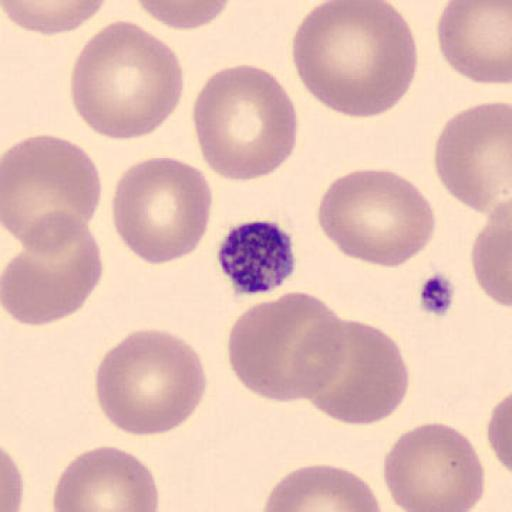Platelet: (216, 217, 299, 298)
RBC: (290, 0, 419, 121), (69, 19, 186, 142), (226, 290, 347, 404), (192, 62, 300, 182), (94, 326, 209, 437), (316, 167, 438, 269), (300, 317, 411, 426), (1, 210, 104, 326), (110, 154, 214, 268), (1, 132, 104, 240), (383, 420, 485, 512), (434, 100, 512, 214), (51, 443, 161, 512), (436, 0, 512, 86), (259, 462, 384, 512), (471, 195, 512, 310), (2, 0, 110, 37), (18, 209, 87, 261), (133, 0, 234, 31), (486, 386, 512, 480), (0, 444, 26, 512)
